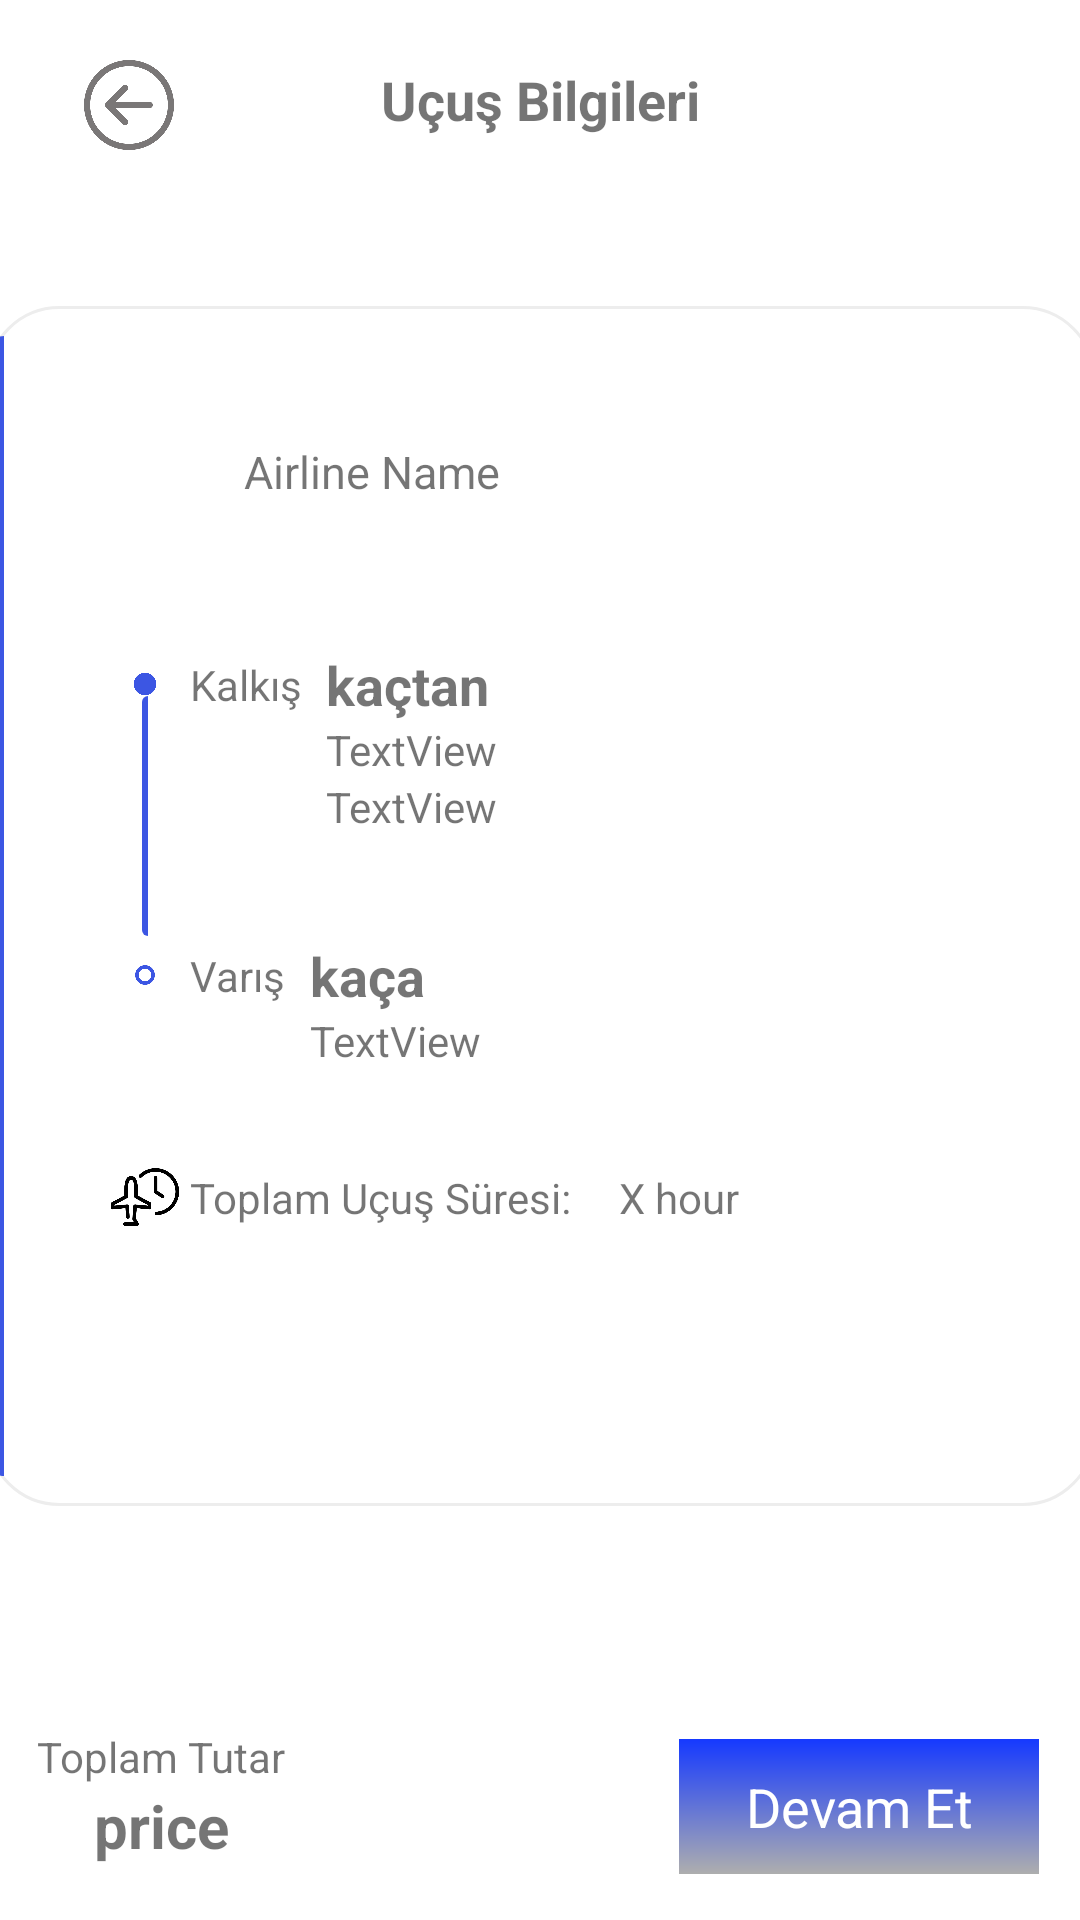

Screen size 1080w x 1920h. Icon name, then its center in pixels as (x=x, y=y):
back: (x=129, y=105)
time: (x=145, y=1197)
